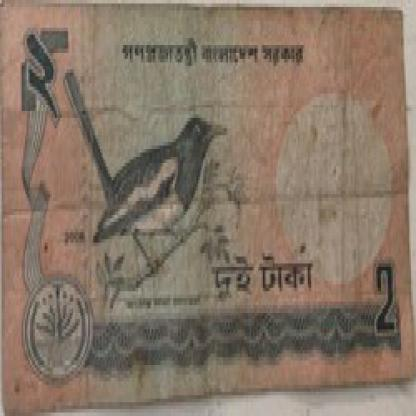two taka: (205, 232, 330, 312), (17, 25, 66, 128)
